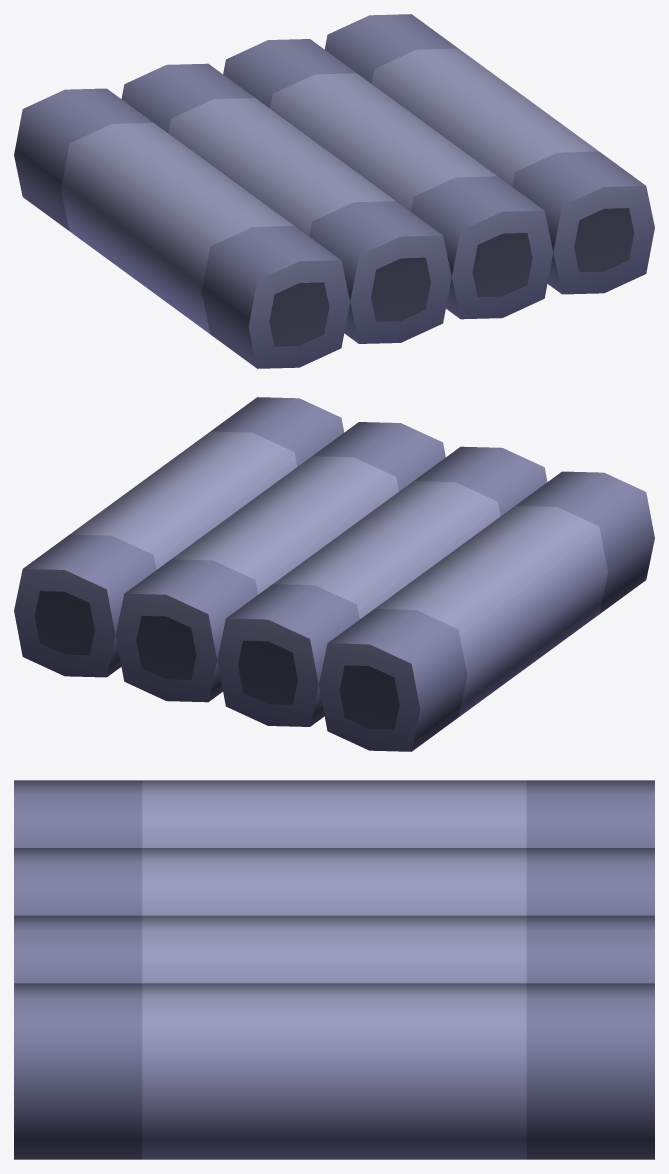
File: kenney-factory-conveyor-bars-stripe.glb
3 renders of one model, top to bottom at view 1: azimuth 30°, elevation 25°; view 2: azimuth 150°, elevation 25°; view 3: azimuth 270°, elevation 25°, orthographic. The views are drawn at different scales.
Visible parts, largest first — view 1: conveyor-bars-stripe; view 2: conveyor-bars-stripe; view 3: conveyor-bars-stripe.
Boxes of the visible parts, x1,y1,x2,y2 form: conveyor-bars-stripe: [14, 14, 654, 368]; conveyor-bars-stripe: [14, 397, 654, 751]; conveyor-bars-stripe: [14, 780, 654, 1159].
Size of the model in its own units: 1 by 0.25 by 1.
1 material, 1 textured.
